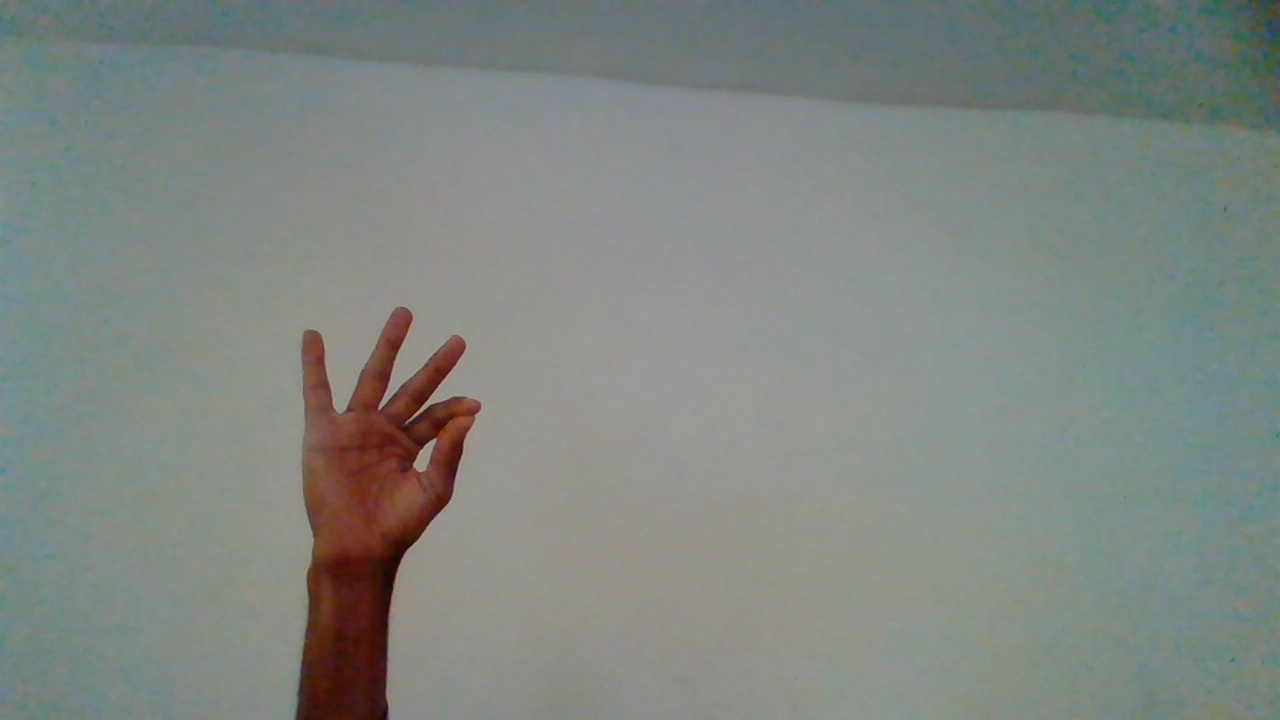le: (299, 306, 479, 694)
